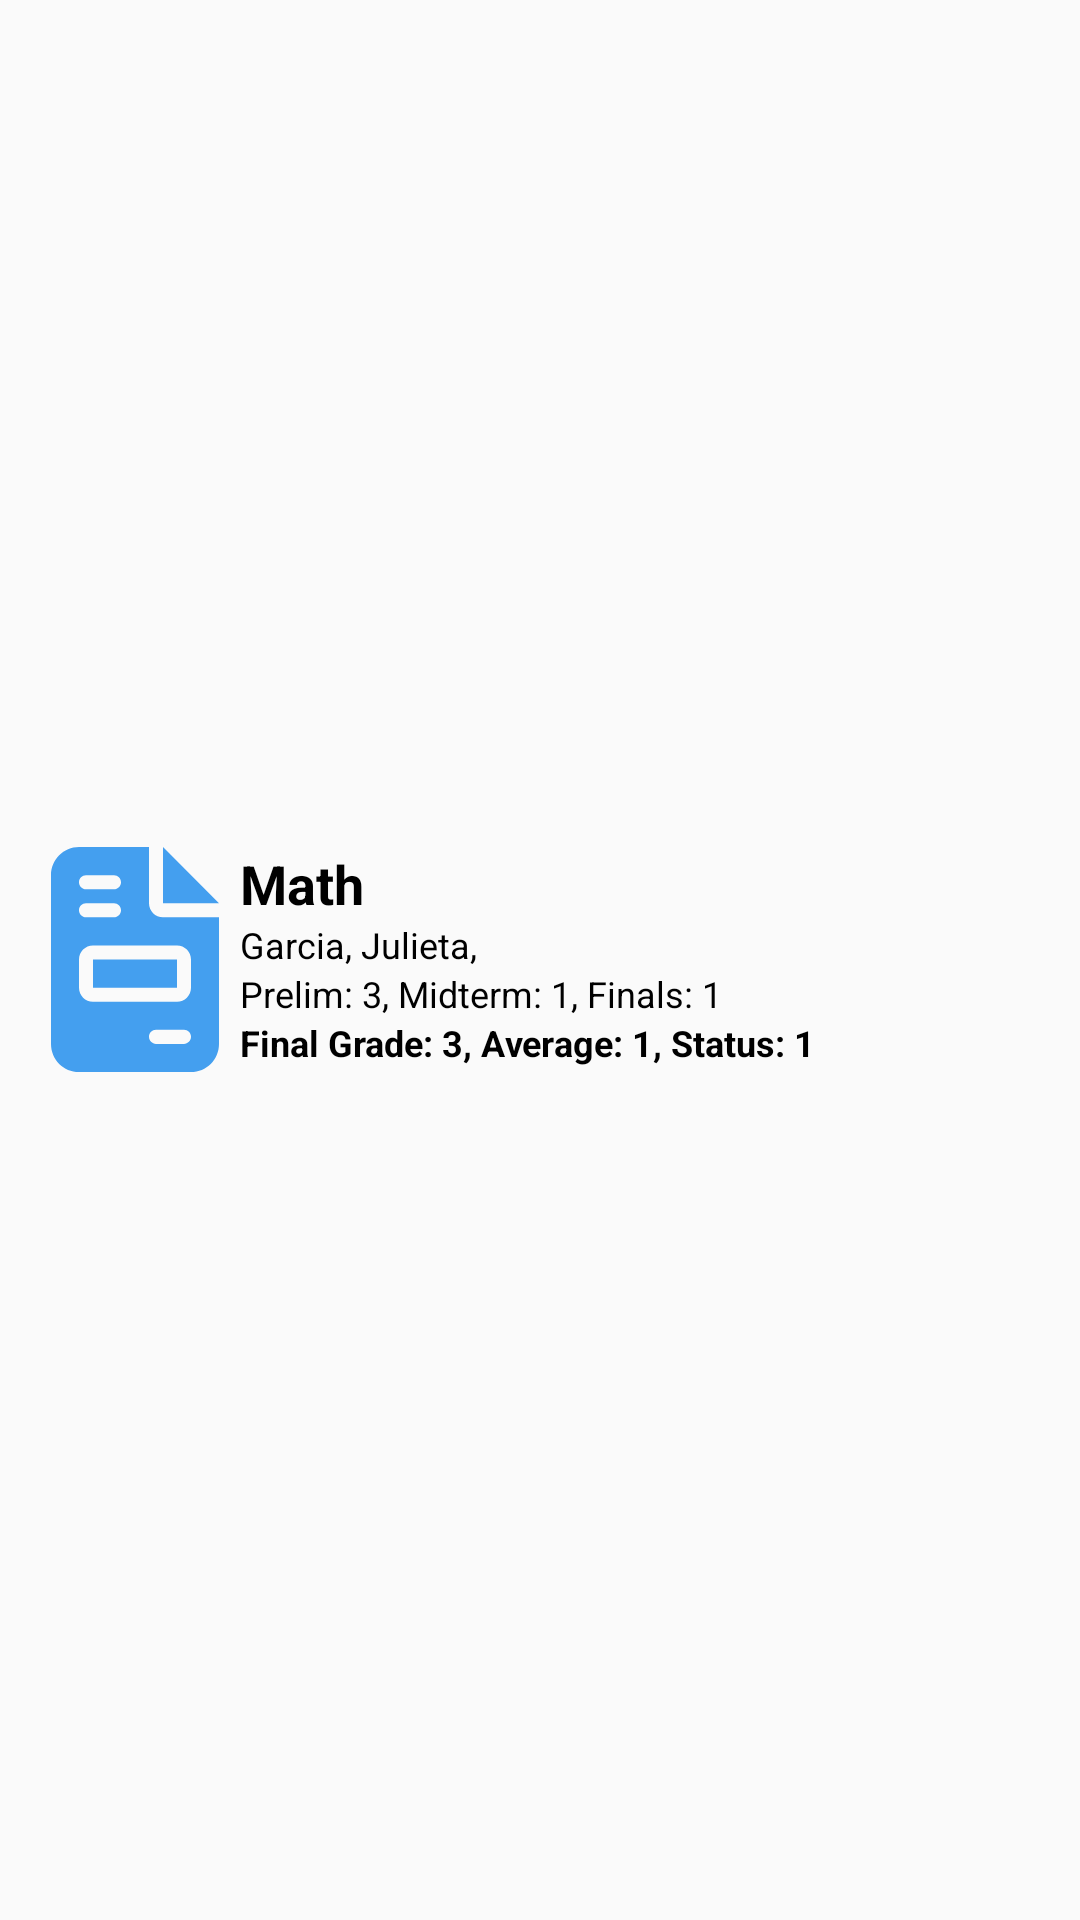

Point at icon controls on the screen. Image size 1080x1920, points as [x,y].
file invoice: [135,959]
